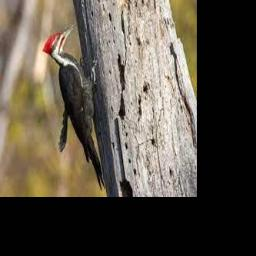Woodpecker: (42, 22, 105, 189)
